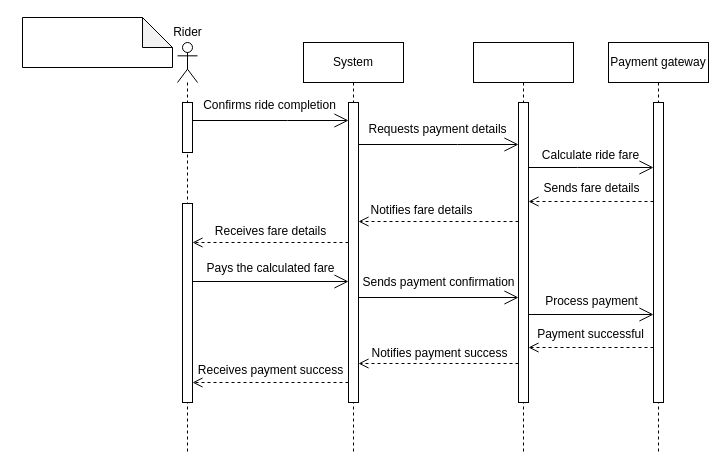
Some shapes in this 726 by 470 pixel diagram are drawn without their labels. The box of each missing label's shape, as (x1, y1, x2, y2) in pixels:
Payment Processing: (22, 16, 172, 68)
Server: (472, 42, 574, 452)
